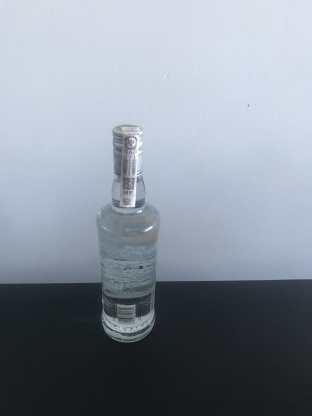nakretka: (109, 121, 146, 178)
